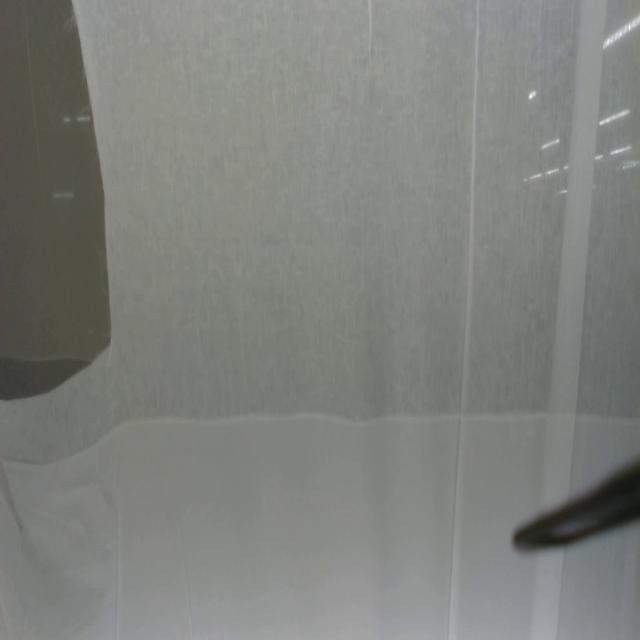crease: (546, 0, 608, 484), (446, 0, 480, 639), (530, 548, 564, 640), (113, 467, 122, 639), (365, 0, 374, 63)
hole: (0, 0, 113, 403)
